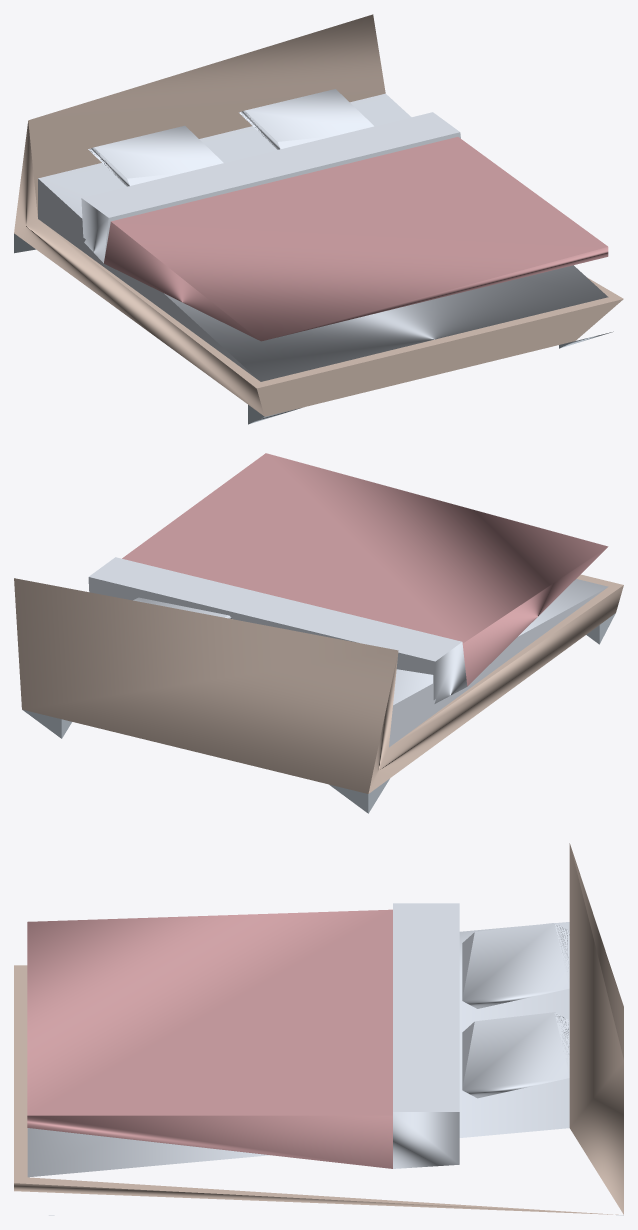
File: bedDouble.glb
3 views of the same model, one above another, from view 1: azimuth 30°, elevation 25°; view 2: azimuth 150°, elevation 25°; view 3: azimuth 270°, elevation 25° (orthographic). The views are drawn at different scales.
Visible parts, largest first — view 1: cover, Mesh bedDouble, pillowLeft, pillowRight; view 2: Mesh bedDouble, cover; view 3: cover, Mesh bedDouble, pillowLeft, pillowRight.
Part boxes in pixels (left/top/right/bottom): cover: left=81, top=112, right=608, bottom=341; Mesh bedDouble: left=14, top=14, right=623, bottom=424; pillowLeft: left=88, top=125, right=223, bottom=186; pillowRight: left=239, top=89, right=373, bottom=149; Mesh bedDouble: left=14, top=574, right=623, bottom=813; cover: left=88, top=453, right=608, bottom=703; cover: left=27, top=903, right=459, bottom=1168; Mesh bedDouble: left=14, top=843, right=623, bottom=1215; pillowLeft: left=462, top=923, right=569, bottom=1008; pillowRight: left=462, top=1012, right=569, bottom=1098.
Size of the model in its own units: 0.9511 by 0.3743 by 1.12.
